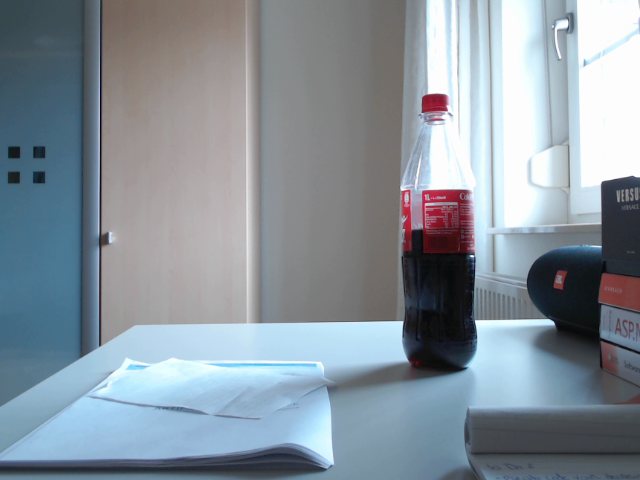bottle: (399, 94, 477, 372)
